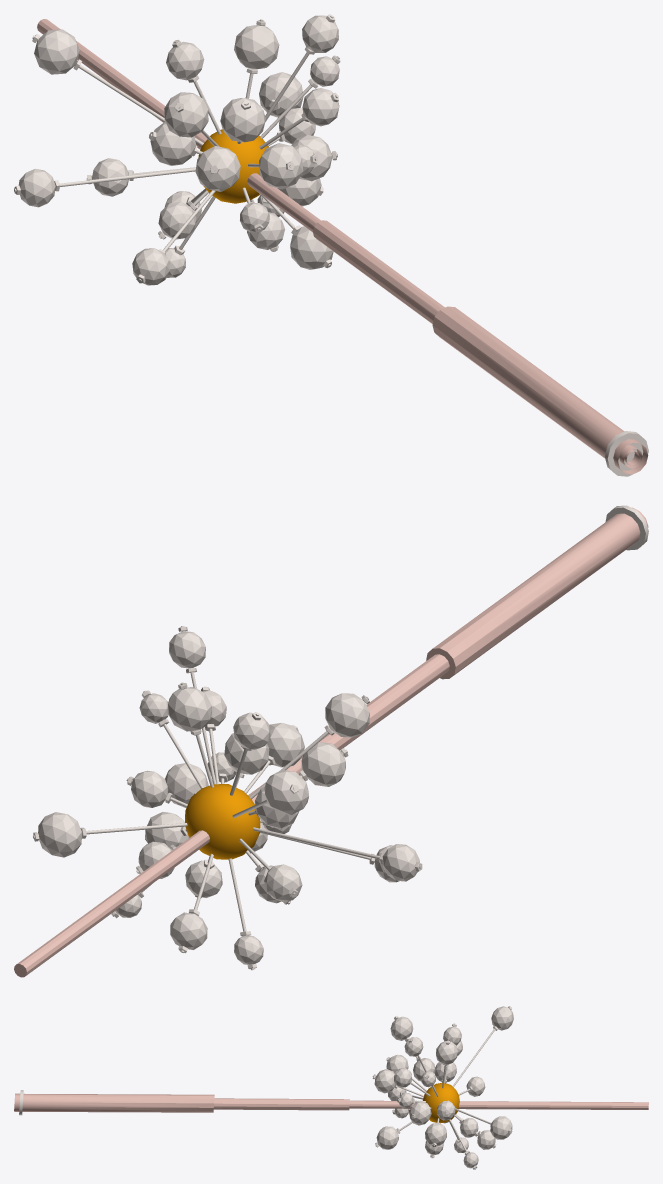
Rendered from branch.011_c.glb.
3 views of the same model, one above another, from view 1: azimuth 30°, elevation 25°; view 2: azimuth 150°, elevation 25°; view 3: azimuth 270°, elevation 25° (orthographic). The views are drawn at different scales.
Parts seen in each view (by area): view 1: Glass.003, MET-59_3D-Model.17668, MET-59_3D-Model.17667, MET-59_3D-Model.17666, MET-59_3D-Model.17669; view 2: Glass.003, MET-59_3D-Model.17668, MET-59_3D-Model.17667, MET-59_3D-Model.17666; view 3: Glass.003, MET-59_3D-Model.17668, MET-59_3D-Model.17667, MET-59_3D-Model.17666.
Part boxes in pixels (bbox=[...]): Glass.003: bbox=[18, 15, 339, 285]; MET-59_3D-Model.17668: bbox=[37, 19, 648, 474]; MET-59_3D-Model.17667: bbox=[14, 14, 340, 283]; MET-59_3D-Model.17666: bbox=[198, 129, 268, 203]; MET-59_3D-Model.17669: bbox=[604, 431, 648, 476]; Glass.003: bbox=[38, 631, 419, 964]; MET-59_3D-Model.17668: bbox=[14, 507, 648, 977]; MET-59_3D-Model.17667: bbox=[33, 626, 422, 970]; MET-59_3D-Model.17666: bbox=[185, 784, 260, 859]; Glass.003: bbox=[374, 1006, 513, 1168]; MET-59_3D-Model.17668: bbox=[14, 1093, 648, 1112]; MET-59_3D-Model.17667: bbox=[372, 1006, 512, 1169]; MET-59_3D-Model.17666: bbox=[422, 1083, 459, 1123].
Size of the model in its own units: 0.1977 by 0.1556 by 0.6185.
